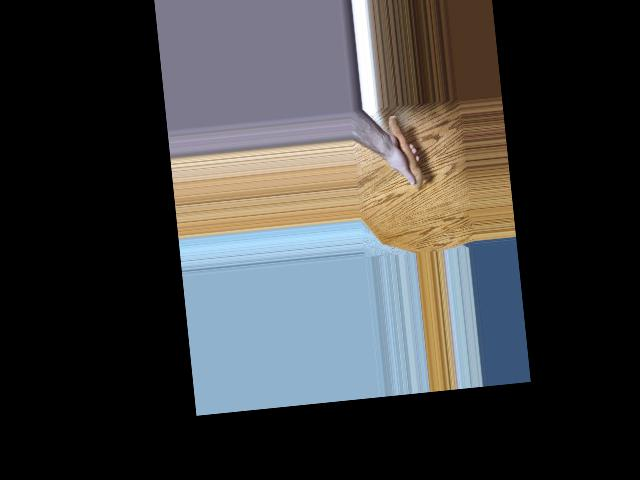sweet_potato: (384, 112, 426, 190)
